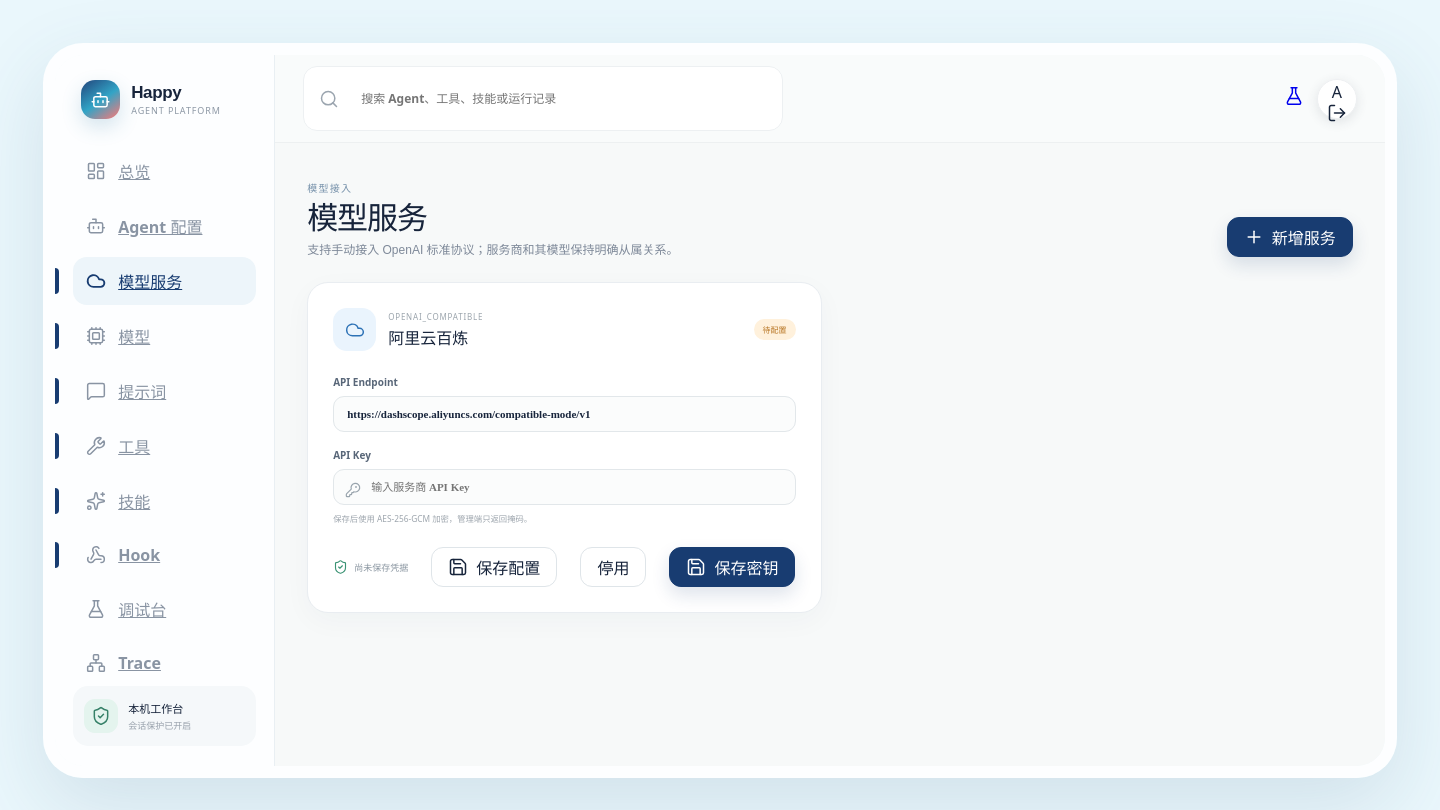
Test: AdminWorkbench › saves a provider credential without echoing the secret
Type "sk-test-secret" into the password field named "阿里云百炼 API Key" at (564, 487), box [333, 469, 796, 505]
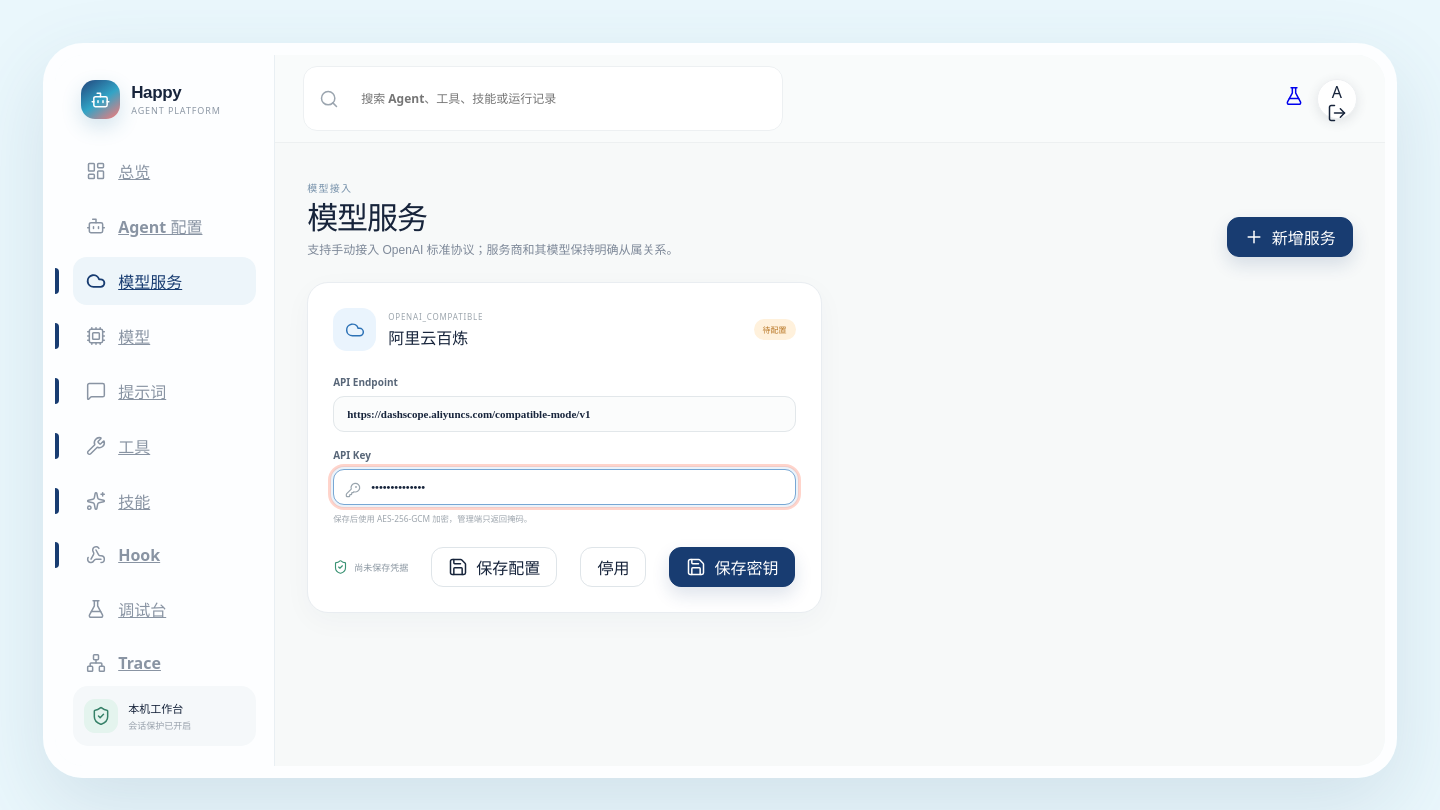
Click the button "保存密钥" at (732, 567), box [670, 547, 796, 587]
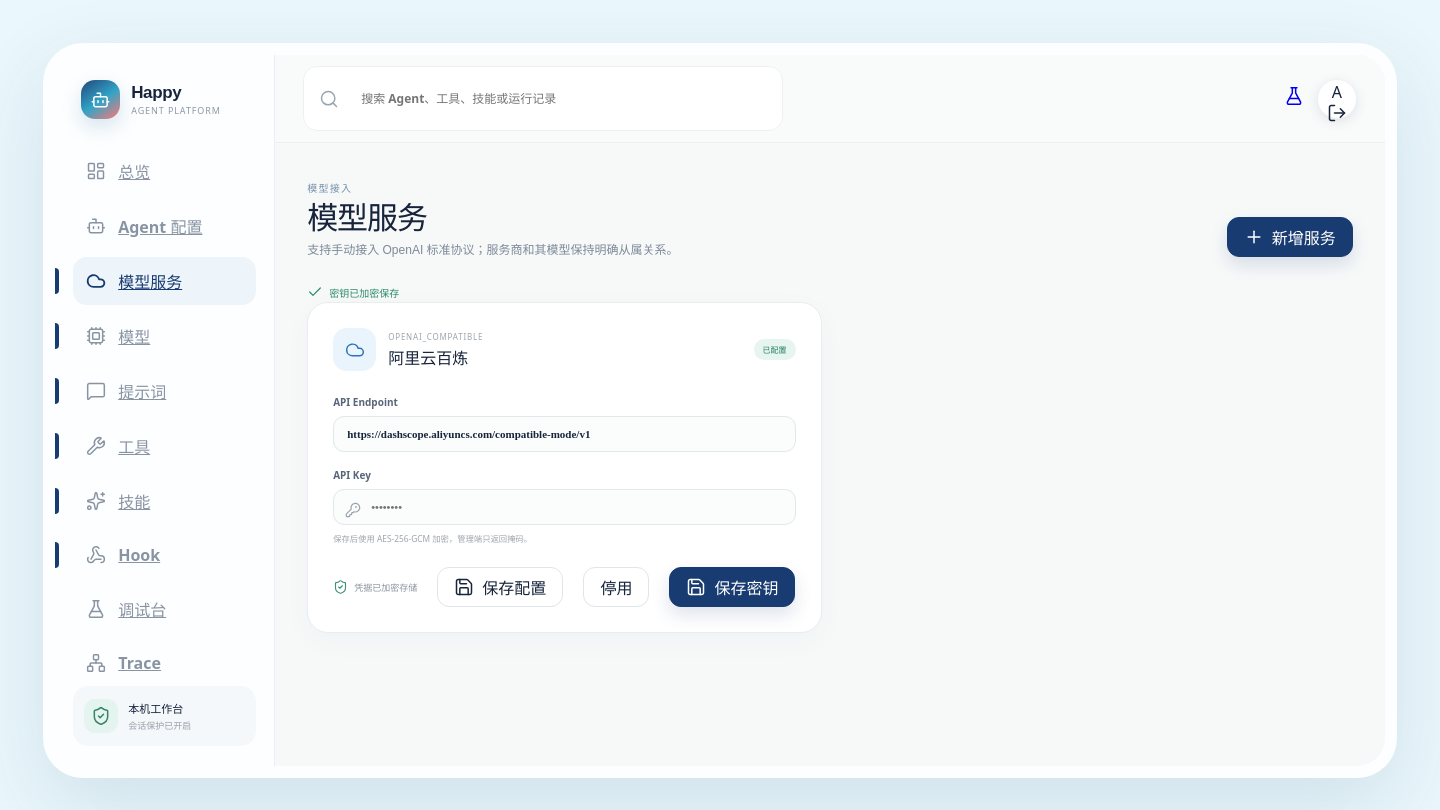
expect the text "密钥已加密保存" is shown: met, box [307, 282, 399, 302]
